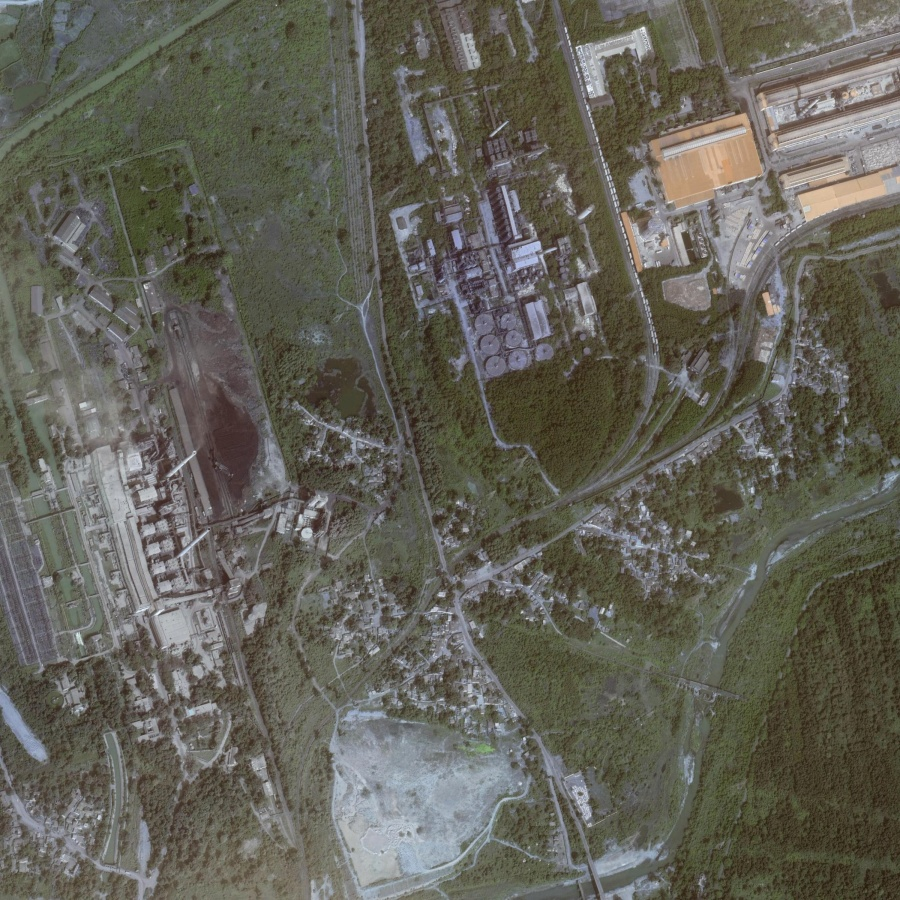PowerPlant: (72, 295, 269, 592)
